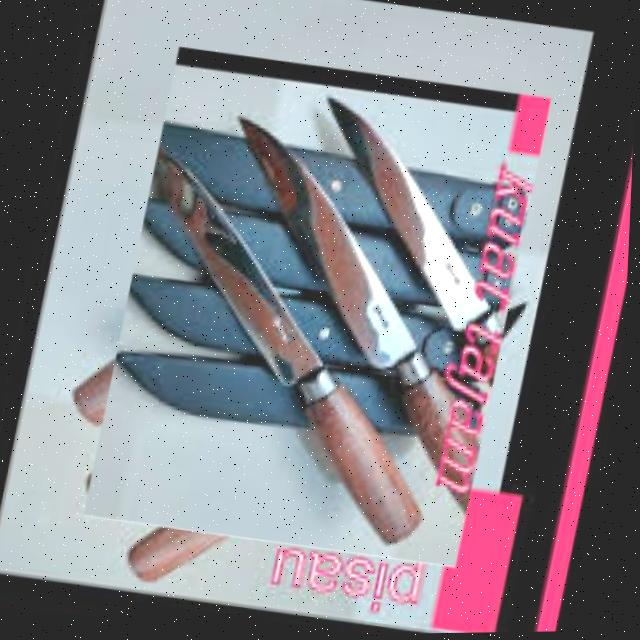knife: (95, 147, 482, 556), (178, 110, 531, 519), (283, 91, 541, 394)
